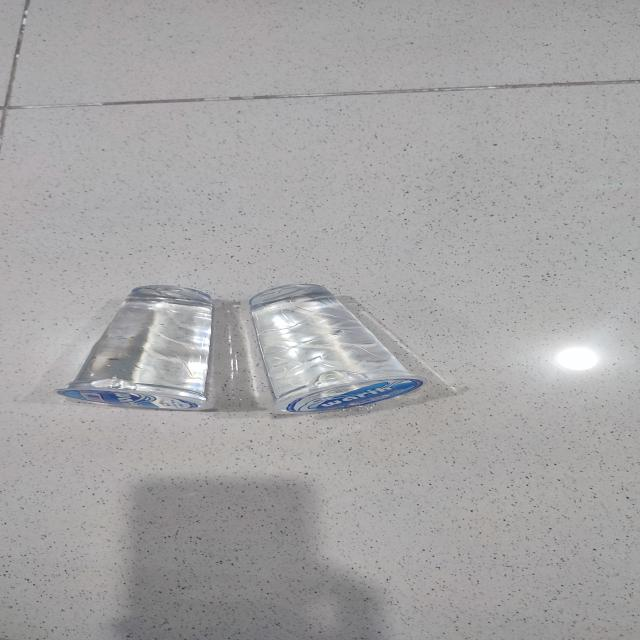air gelas: (233, 275, 430, 423), (57, 281, 231, 419)
